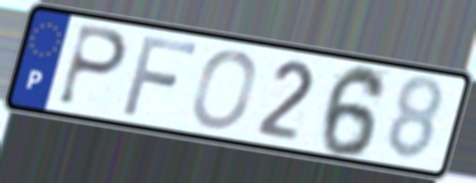2: (252, 59, 317, 145)
6: (316, 61, 392, 159)
8: (382, 74, 451, 166)
F: (119, 33, 201, 119)
O: (187, 48, 260, 132)
P: (54, 21, 131, 111)
